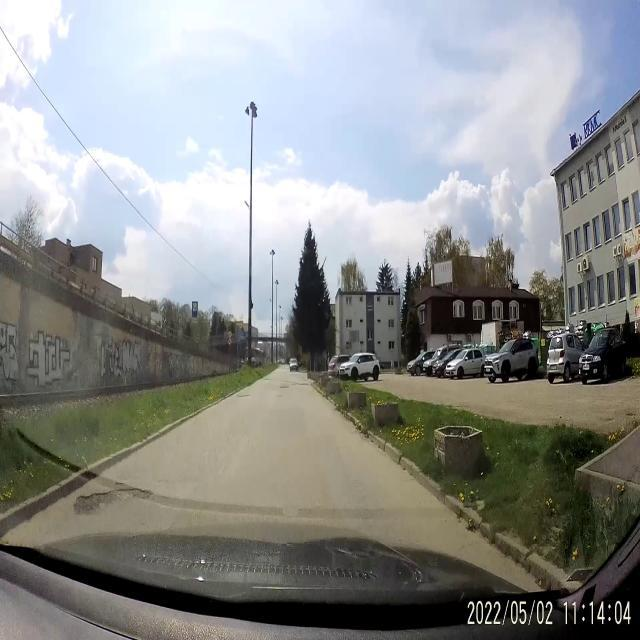Pothole: (73, 483, 154, 518), (292, 378, 310, 390), (278, 379, 292, 392), (236, 390, 252, 400), (264, 376, 272, 383), (276, 393, 282, 399)
